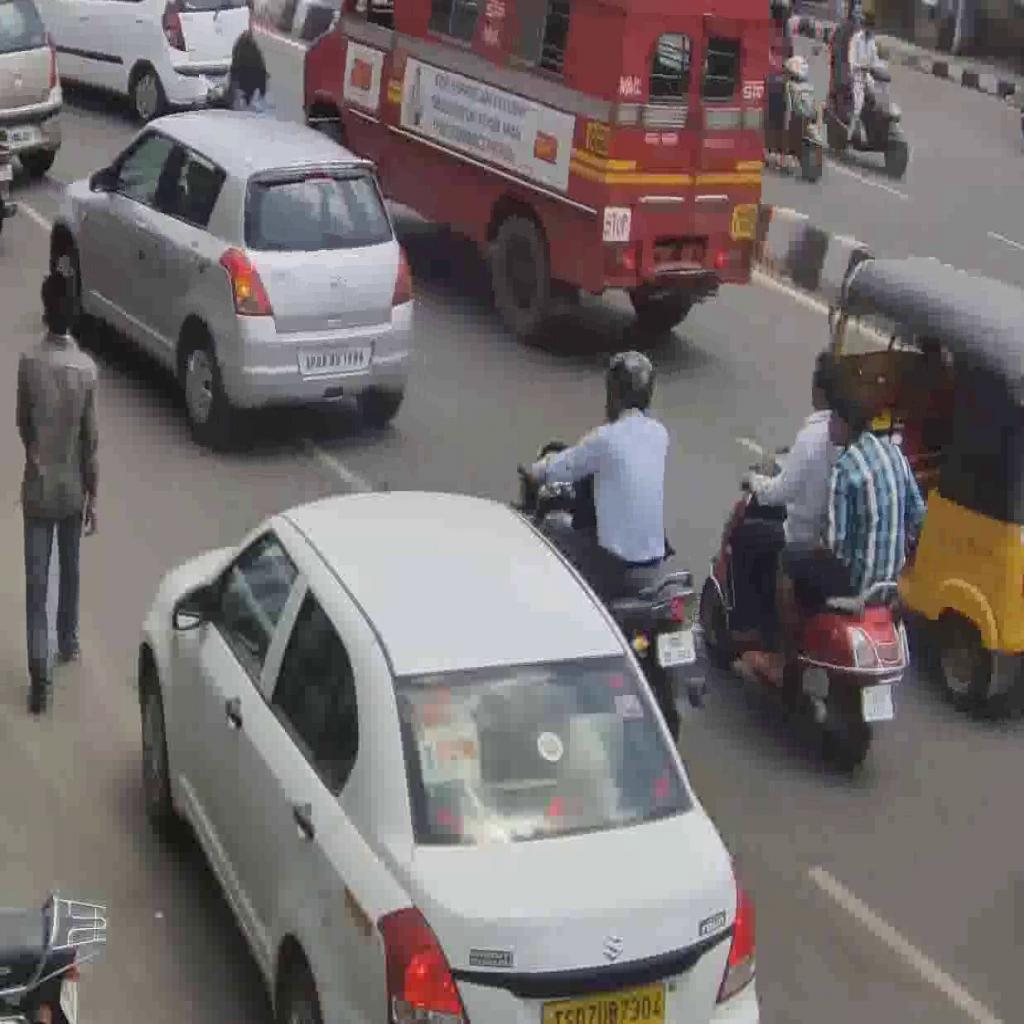helmet: (698, 442, 910, 774), (510, 437, 710, 748)
